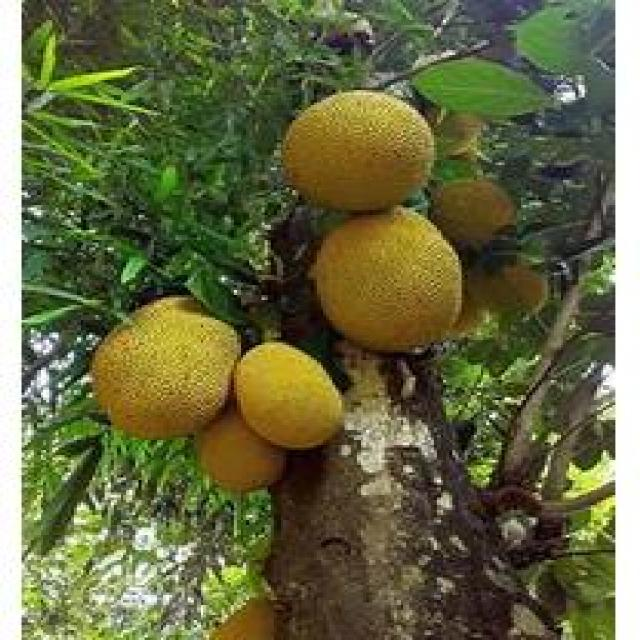Fruit: (289, 192, 477, 372), (80, 282, 252, 450), (265, 67, 446, 225)
